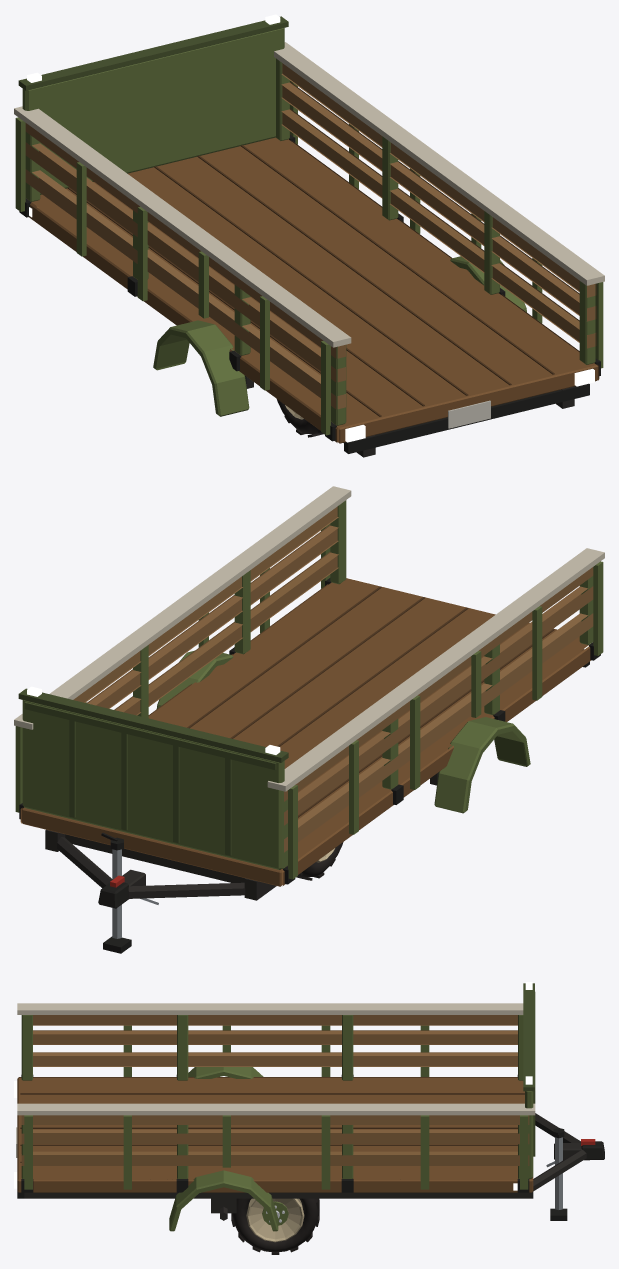
Rendered from RanchTrailer.glb.
3 renders of one model, top to bottom at view 1: azimuth 30°, elevation 25°; view 2: azimuth 150°, elevation 25°; view 3: azimuth 270°, elevation 25°, orthographic. The views are drawn at different scales.
Visible parts, largest first — view 1: Bed, Body, Lights, Wheel; view 2: Bed, Body, Hitch; view 3: Bed, Body, Wheel, Hitch.
Boxes of the visible parts, bbox=[...] form: Bed: bbox=[14, 16, 604, 443]; Body: bbox=[153, 256, 589, 457]; Lights: bbox=[27, 14, 594, 442]; Wheel: bbox=[277, 399, 323, 437]; Bed: bbox=[14, 486, 604, 886]; Body: bbox=[45, 650, 589, 900]; Hitch: bbox=[57, 832, 245, 953]; Bed: bbox=[17, 983, 535, 1192]; Body: bbox=[16, 1067, 533, 1231]; Wheel: bbox=[231, 1198, 319, 1254]; Hitch: bbox=[533, 1113, 604, 1220].
Bounding box in the file's own units: 10.31 × 8.52 × 20.84.
